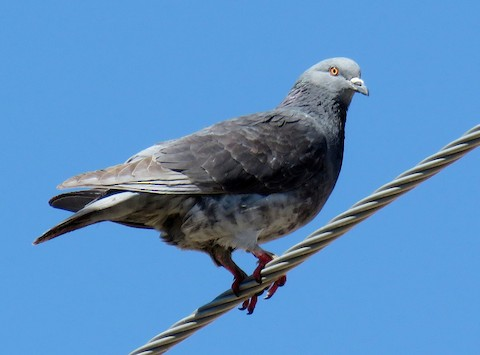pigeon: (29, 51, 377, 317)
